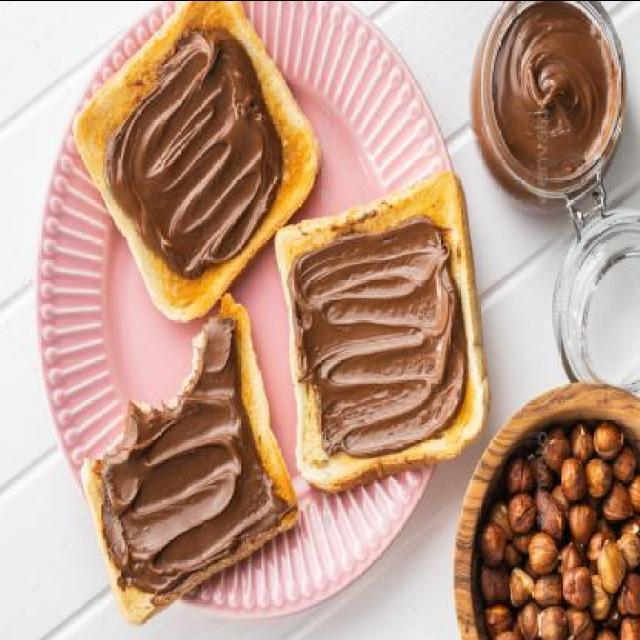Spread: (103, 312, 280, 600), (106, 25, 292, 278), (292, 206, 462, 470)
